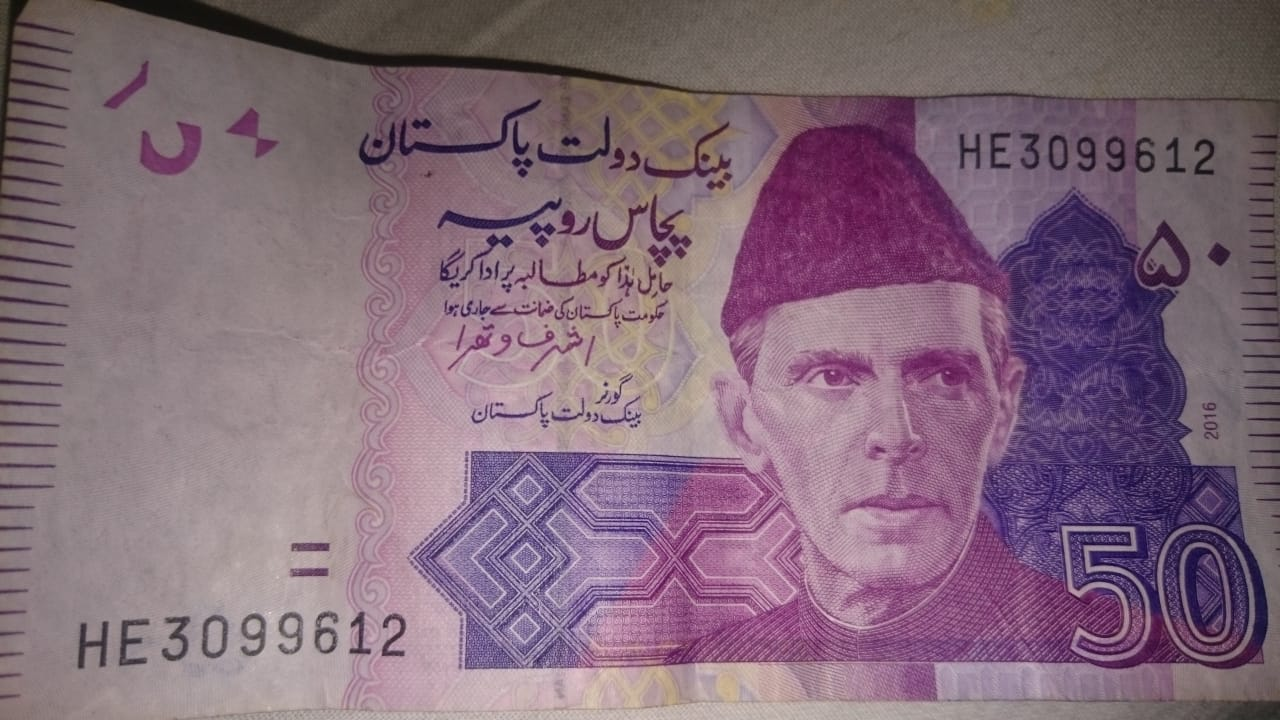50 rupee: (19, 7, 1271, 719)
